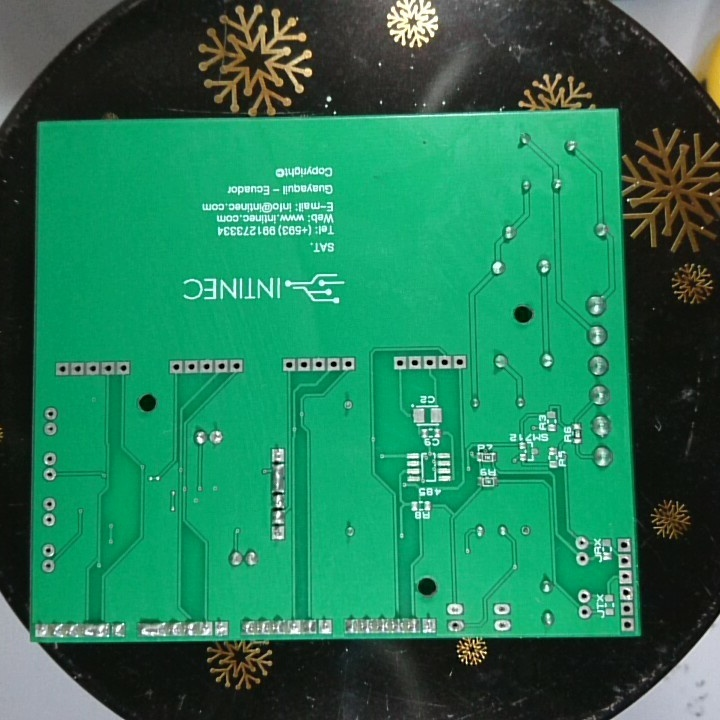F: (270, 523, 289, 542), (268, 446, 287, 464), (310, 355, 326, 376), (212, 358, 228, 378), (492, 600, 512, 616), (100, 358, 115, 379), (437, 353, 452, 374), (115, 360, 132, 378), (576, 603, 593, 621), (573, 534, 590, 552), (446, 618, 464, 635), (208, 429, 225, 447), (44, 404, 60, 423), (40, 558, 57, 575), (42, 449, 59, 466), (70, 361, 86, 379), (85, 360, 101, 378), (519, 523, 535, 541), (341, 355, 355, 375), (167, 359, 184, 375), (391, 355, 407, 372), (617, 569, 634, 585), (617, 584, 633, 601), (33, 623, 50, 639), (42, 420, 59, 436), (53, 361, 71, 376), (281, 356, 296, 374), (407, 354, 422, 372), (296, 356, 310, 375), (493, 616, 509, 632), (183, 358, 198, 375), (228, 359, 243, 376), (617, 554, 632, 571), (619, 600, 634, 617), (41, 512, 56, 529), (42, 468, 59, 483), (212, 620, 226, 638), (618, 615, 633, 631), (326, 357, 340, 374), (340, 398, 354, 415), (42, 542, 56, 559), (422, 354, 435, 372), (421, 617, 435, 633), (618, 537, 631, 554), (41, 496, 58, 509), (576, 549, 587, 568), (201, 360, 214, 376), (578, 588, 591, 604), (447, 602, 463, 615), (200, 620, 213, 635), (319, 620, 333, 633), (289, 620, 301, 635), (452, 353, 460, 374)
P: (269, 463, 287, 495), (139, 622, 170, 636), (83, 623, 110, 638)
